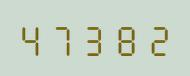eight: (111, 20, 141, 56)
four: (18, 20, 48, 56)
seven: (49, 20, 79, 56)
three: (80, 20, 110, 56)
two: (142, 20, 172, 56)
